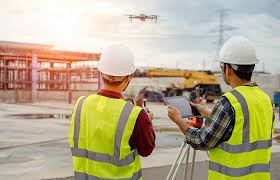hard hat: (97, 42, 141, 76), (216, 37, 260, 65)
safe person: (66, 42, 155, 178), (211, 36, 272, 175)
